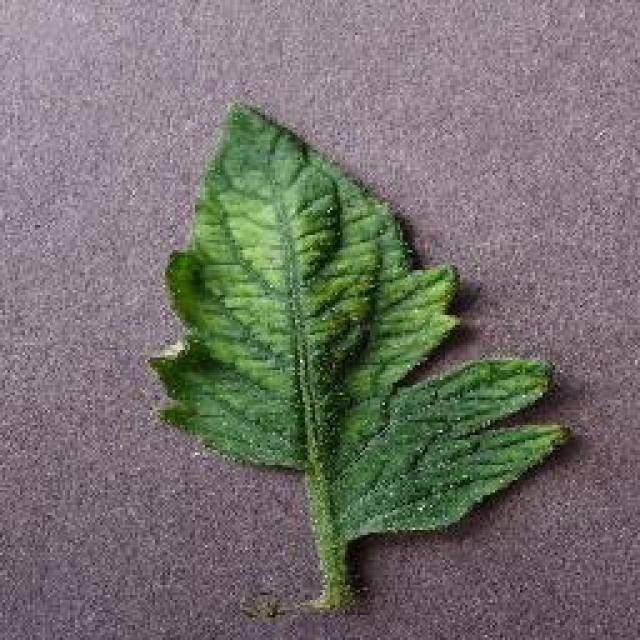Tomato spider mites leaf: (148, 100, 570, 545)
